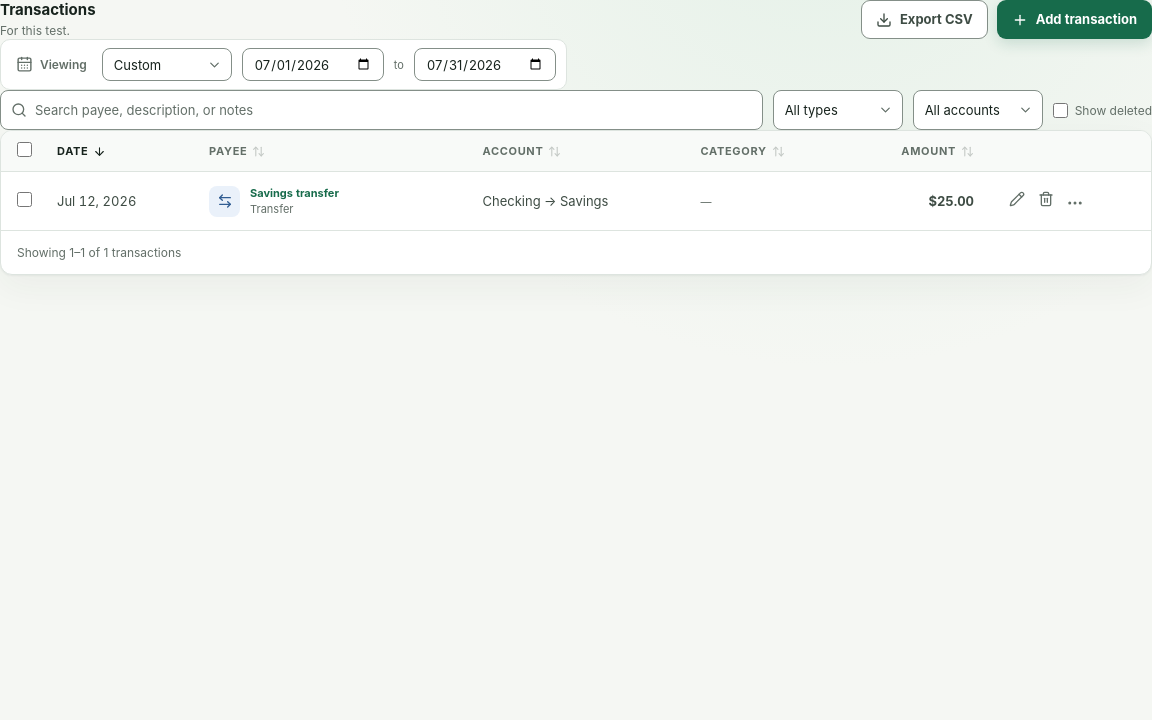
transaction mass selection › keeps common edits available but disables account and type for transfers
This screenshot has width=1152, height=720.
Click the checkbox named "Select transaction ".
click(24, 200)  # box [16,192,32,207]
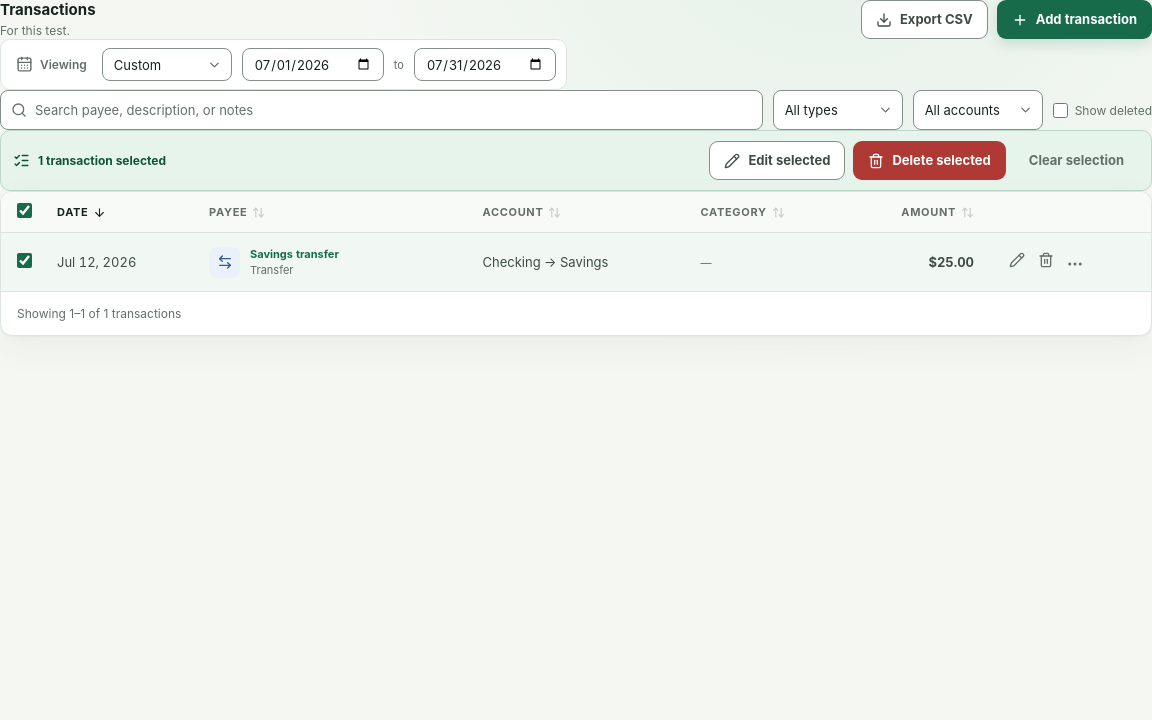
Click the button "Edit selected".
click(777, 161)  # box [709,141,845,180]
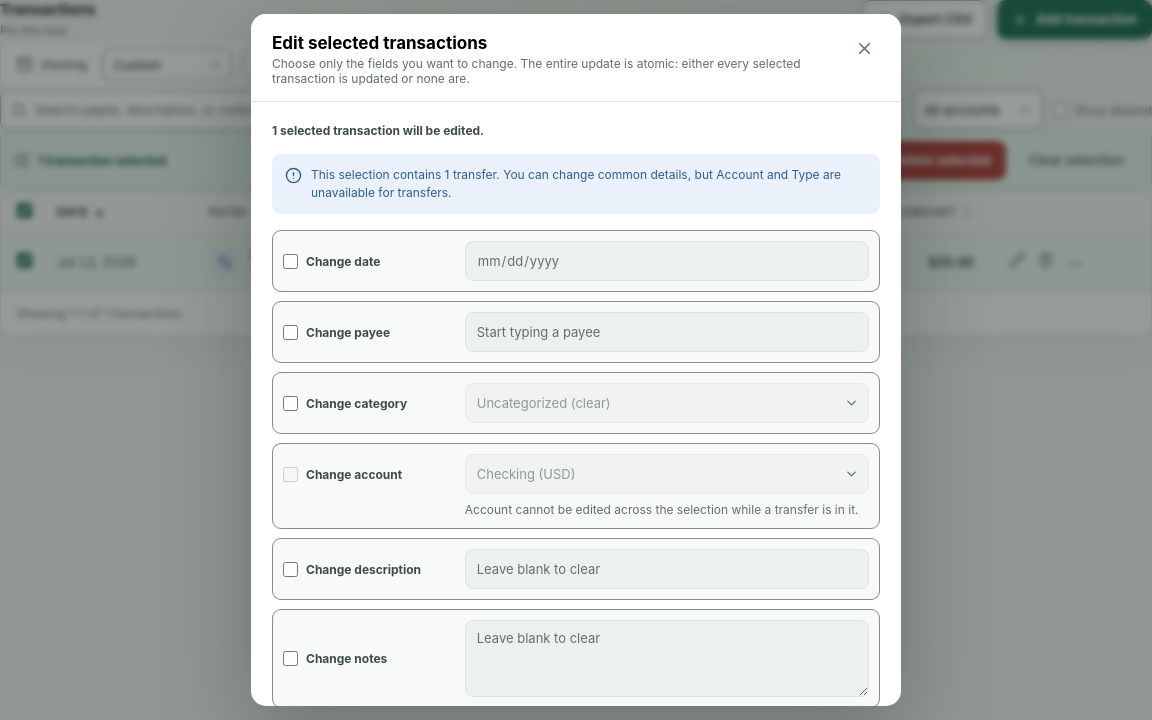
Check: the checkbox labelled "Change account" is disabled, box [283,466,298,482]
Check: the checkbox labelled "Change date" is enabled, box [283,254,298,268]
Check: the text "common details, but Account and Type are unavailable" is shown, box [311,167,841,200]
